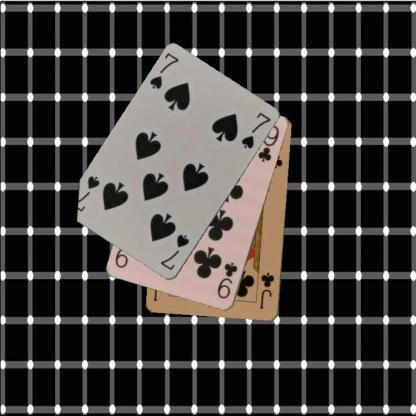7s: (148, 50, 180, 91), (158, 232, 190, 272)
9c: (215, 260, 239, 300)
Jc: (257, 270, 276, 310)
